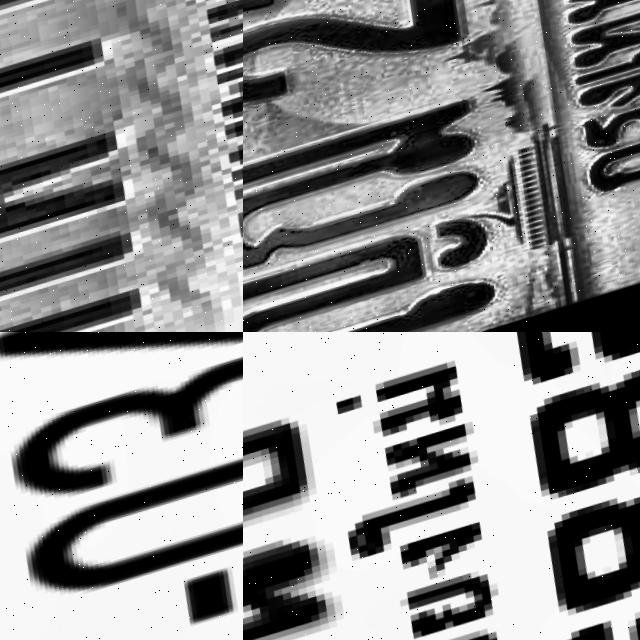license-plate: (243, 0, 640, 332), (243, 332, 640, 640), (0, 0, 243, 332), (0, 332, 243, 640)
